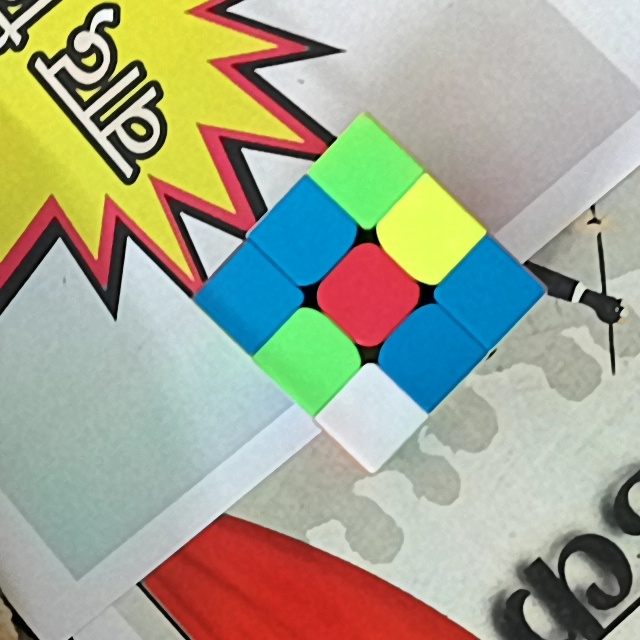tile: (335, 145, 395, 201), (336, 268, 399, 321), (275, 208, 335, 263), (397, 328, 458, 381), (398, 206, 456, 261), (461, 265, 517, 319), (217, 274, 274, 325), (281, 334, 337, 385), (346, 388, 398, 442)
